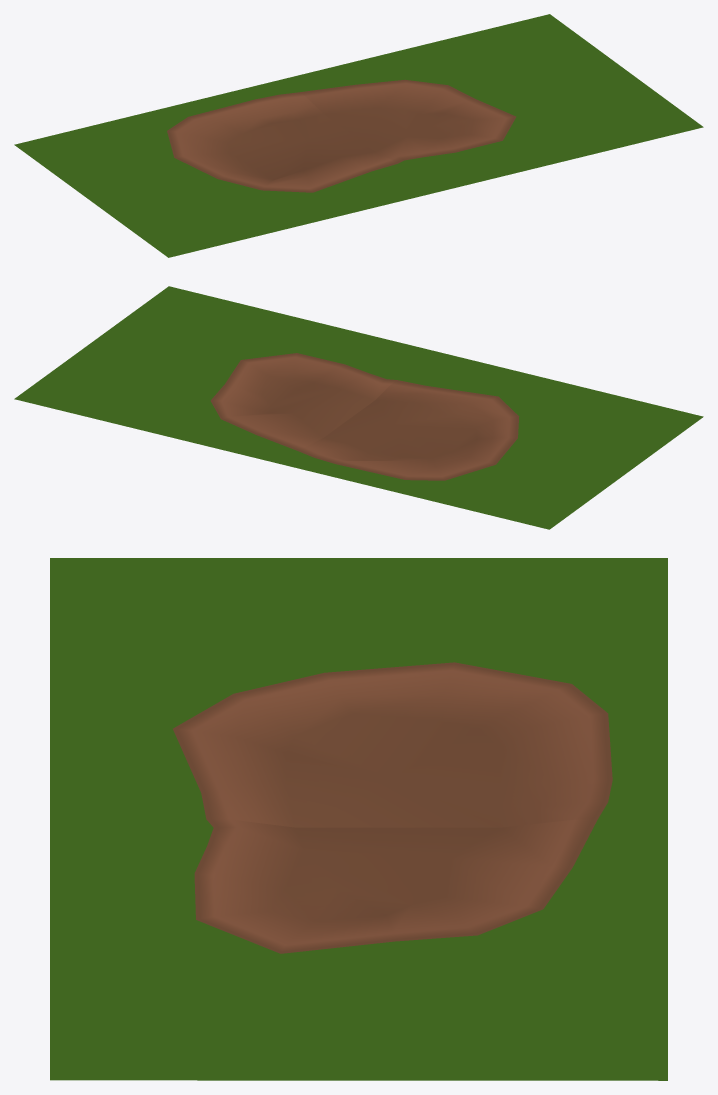
File: GroundHole2_1.fbx
The picture shows the model from 3 angles, top to bottom: view 1: azimuth 30°, elevation 25°; view 2: azimuth 150°, elevation 25°; view 3: azimuth 270°, elevation 25°; orthographic projection. The views are drawn at different scales.
Parts seen in each view (by area): view 1: GroundHole2_2, GroundHole2_1; view 2: GroundHole2_2, GroundHole2_1; view 3: GroundHole2_1, GroundHole2_2.
Boxes of the visible parts, x1,y1,x2,y2 form: GroundHole2_2: (282,14,703,192); GroundHole2_1: (14,79,435,257); GroundHole2_2: (14,286,435,464); GroundHole2_1: (282,351,703,529); GroundHole2_1: (50,558,667,827); GroundHole2_2: (50,819,667,1080).
Size of the model in its own units: 801 by 14.49 by 400.
